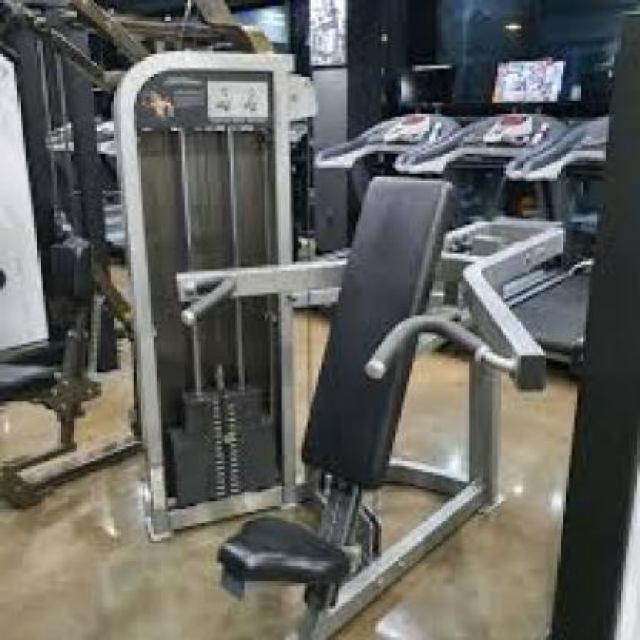shoulder press machine: (103, 41, 589, 640)
